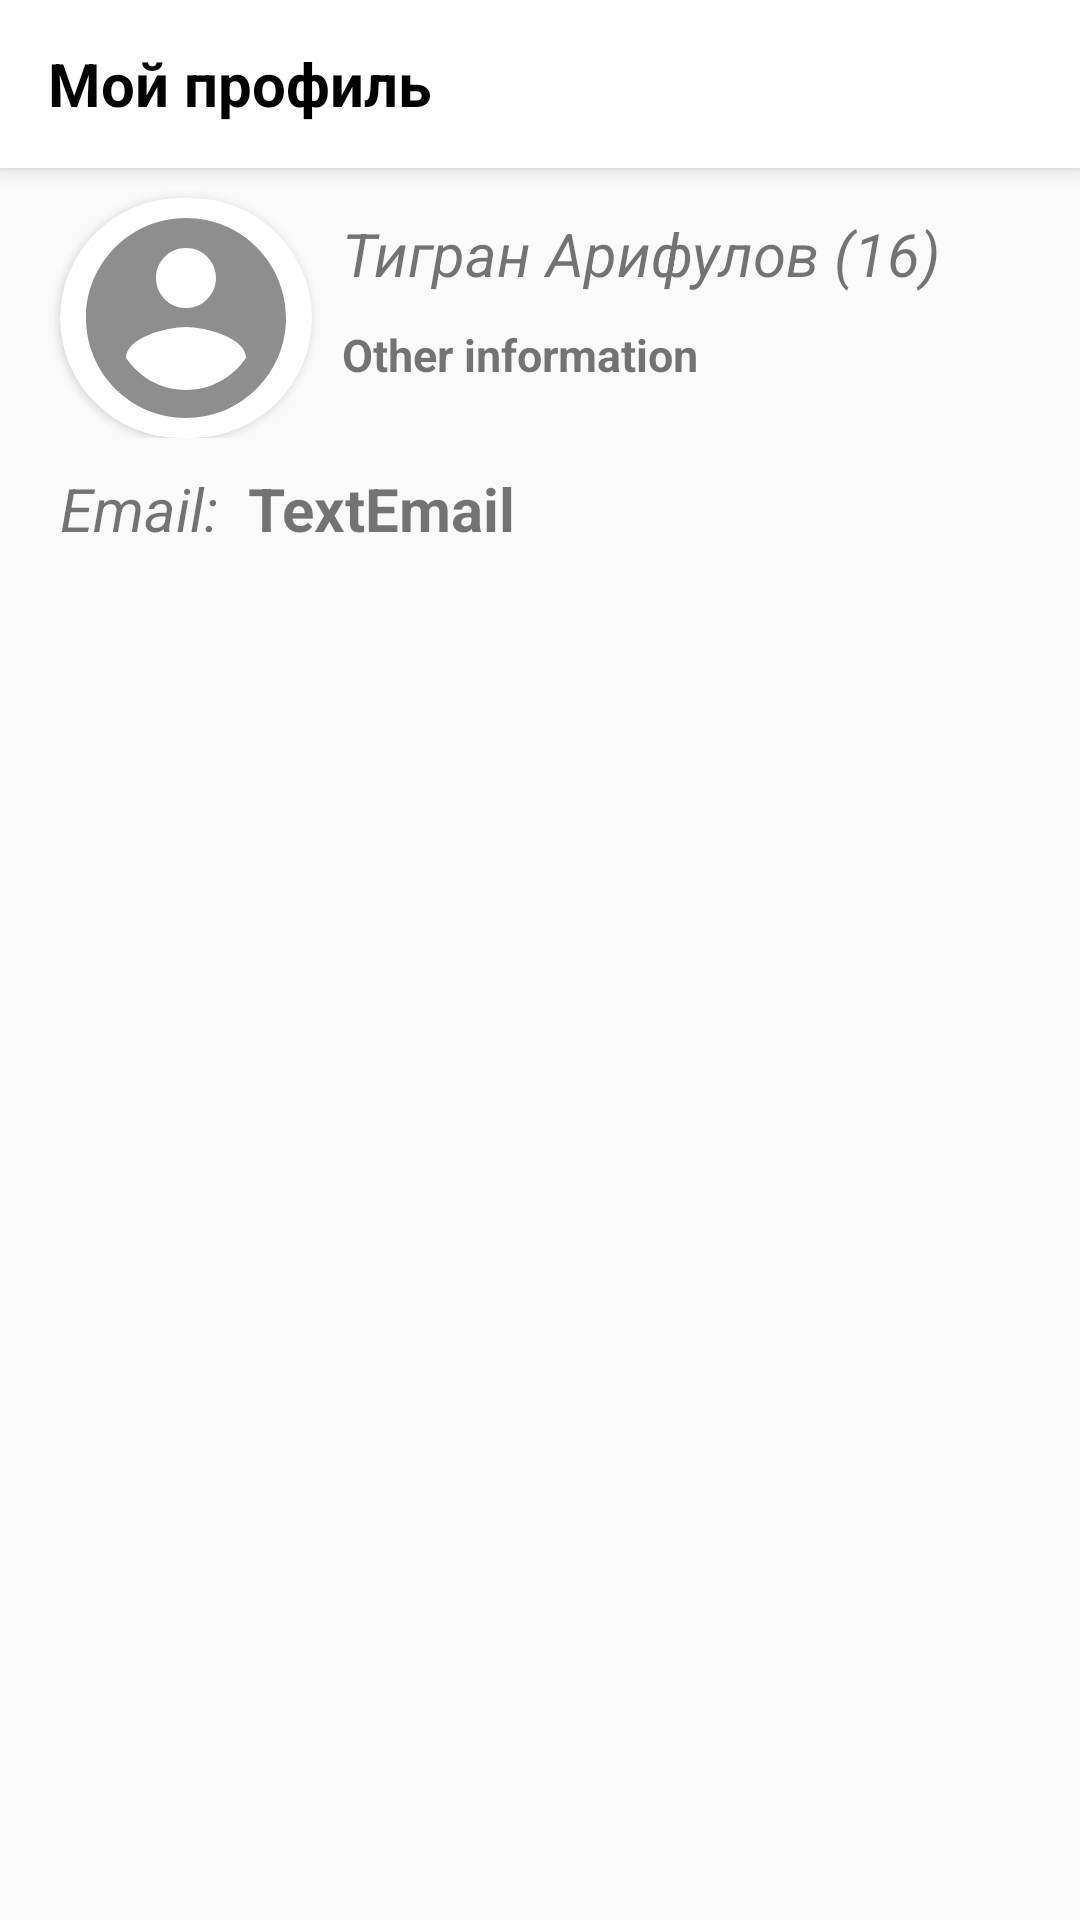

Screen size 1080×1920. Icon name, then its box in pixels as (x1, y1, x2, y2):
account circle: (60, 218, 286, 438)
